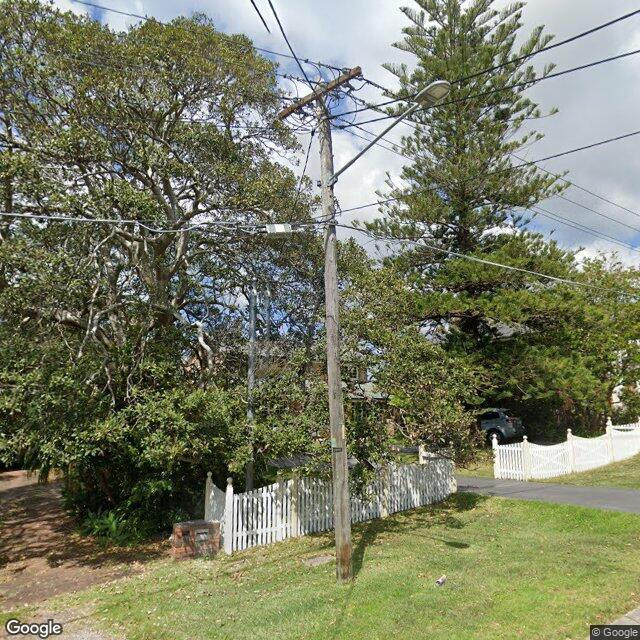crossarm: (277, 66, 363, 121)
steel-pole: (247, 282, 270, 494)
streetlight: (327, 80, 453, 185)
timber-pole: (311, 87, 355, 586)
